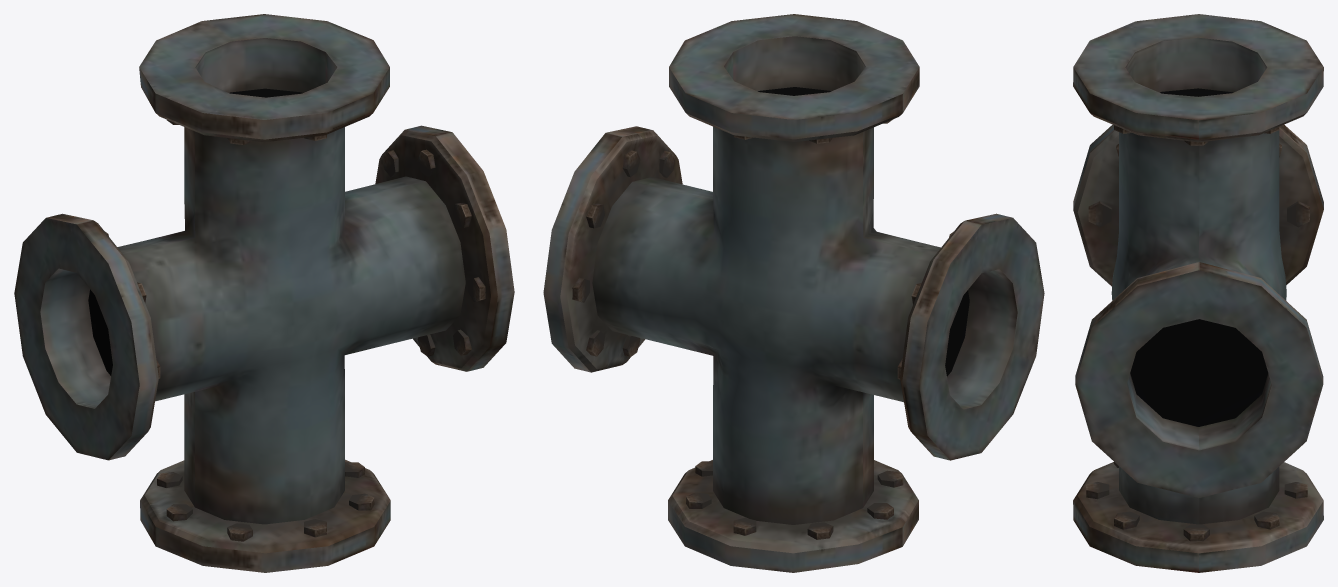
Rendered from pipe_bend.glb.
3 views of the same model, side by side, from view 1: azimuth 30°, elevation 25°; view 2: azimuth 150°, elevation 25°; view 3: azimuth 270°, elevation 25° (orthographic).
Visible parts, largest first — view 1: pipe_bend; view 2: pipe_bend; view 3: pipe_bend.
Boxes of the visible parts, x1,y1,x2,y2 form: pipe_bend: (14, 14, 514, 572); pipe_bend: (543, 14, 1044, 572); pipe_bend: (1073, 14, 1323, 572).
Size of the model in its own units: 0.3568 by 0.4111 by 0.2064.
Materials: 1 (1 with a texture image).
